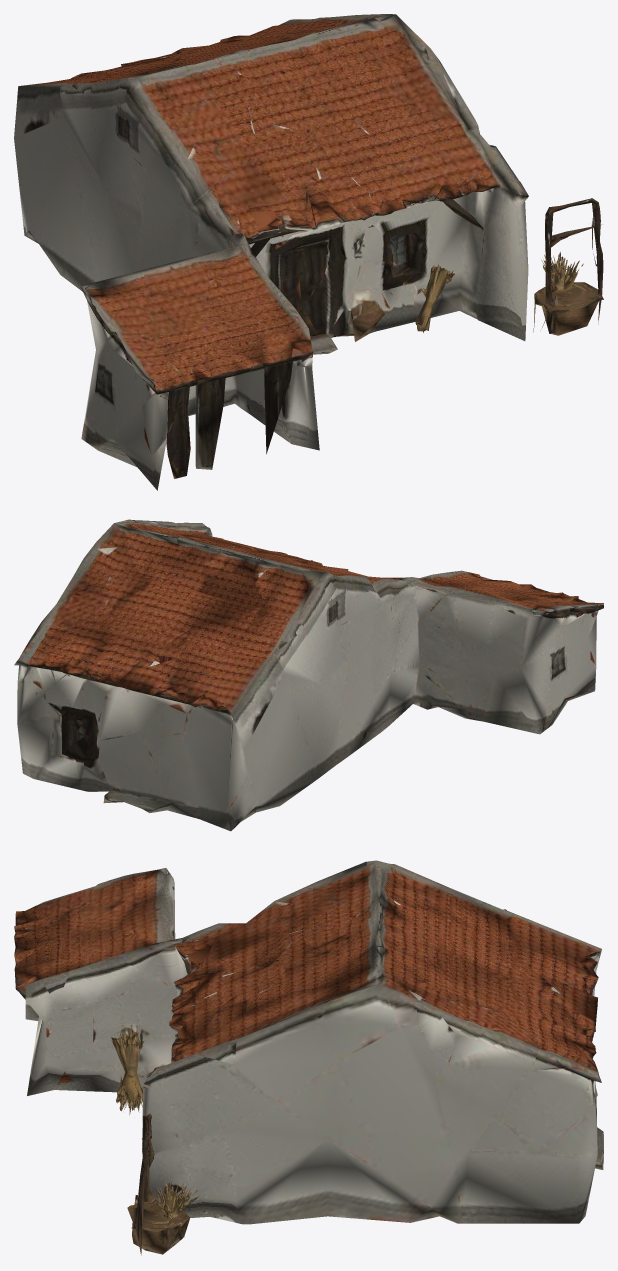
Rendered from zuckerrohrplantage.glb.
3 views of the same model, one above another, from view 1: azimuth 30°, elevation 25°; view 2: azimuth 150°, elevation 25°; view 3: azimuth 270°, elevation 25° (orthographic). The views are drawn at different scales.
Bounding box in the file's own units: 1.88 × 0.8343 × 1.89.
1 material, 1 textured.
